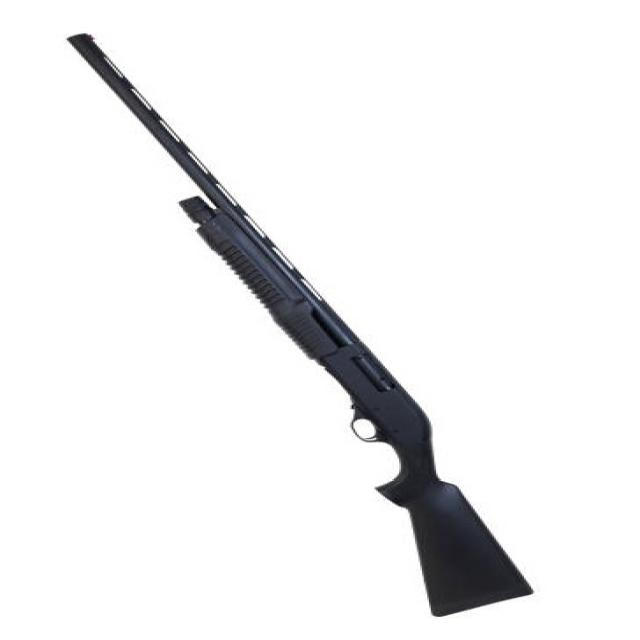rifle: (60, 25, 541, 620)
